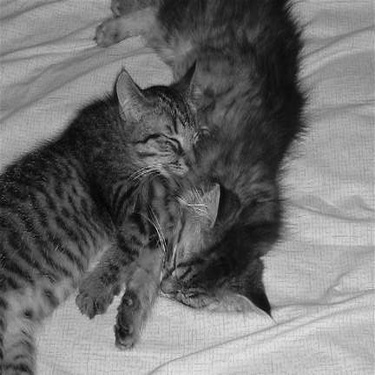cat: (87, 1, 294, 316), (1, 77, 199, 368)
